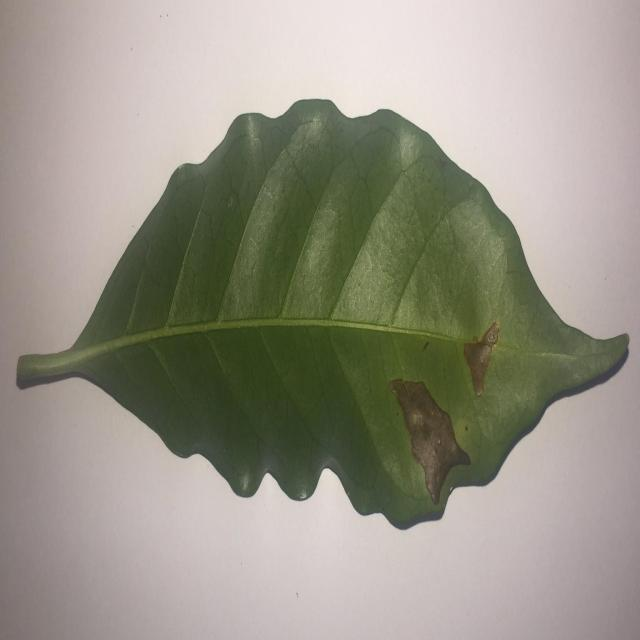miner: (390, 378, 471, 504), (464, 322, 499, 396)
